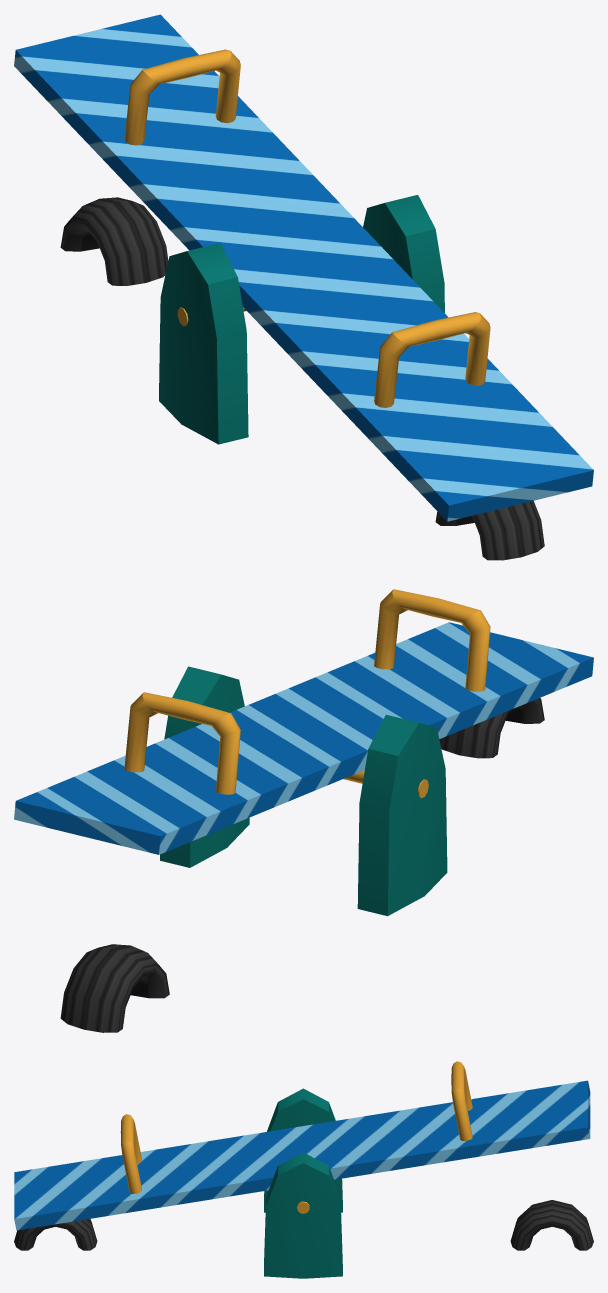
The model's file is si-so-_ani_si-so-.FBX.
The picture shows the model from 3 angles, top to bottom: view 1: azimuth 30°, elevation 25°; view 2: azimuth 150°, elevation 25°; view 3: azimuth 270°, elevation 25°; orthographic projection. The views are drawn at different scales.
Parts seen in each view (by area): view 1: Box003, Box001, Torus001, Box004, Torus002; view 2: Box003, Box001, Torus001, Box004, Torus002; view 3: Box003, Box004, Torus001, Box001, Torus002.
Part boxes in pixels (x1,y1,x2,y2): Box003: (14,14,593,521); Box001: (159,243,248,444); Torus001: (60,197,168,285); Box004: (363,195,444,312); Torus002: (435,501,544,560); Box003: (14,589,593,854); Box001: (357,714,447,916); Torus001: (60,944,169,1032); Box004: (160,666,249,867); Torus002: (439,698,544,758); Box003: (14,1061,590,1230); Box004: (264,1152,342,1278); Torus001: (510,1200,593,1250); Box001: (264,1088,342,1212); Torus002: (14,1219,97,1250).
Size of the model in its own units: 48.89 by 48.61 by 153.
